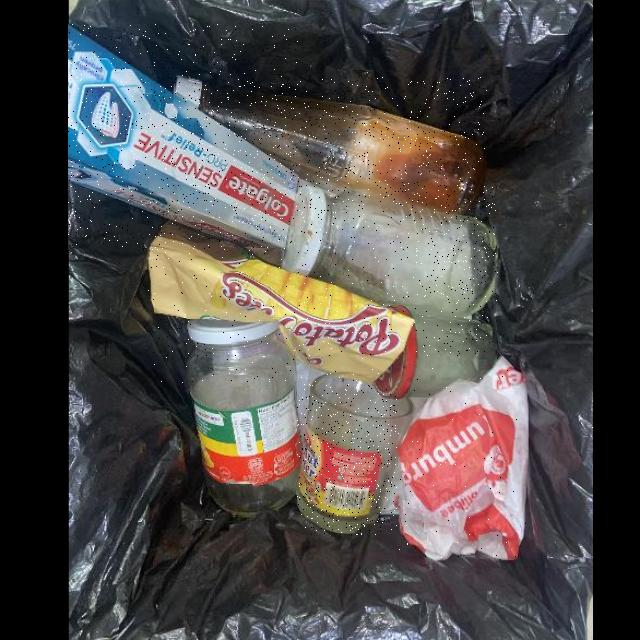glass: (175, 78, 487, 216), (285, 184, 498, 313), (187, 317, 303, 516), (298, 376, 413, 535), (374, 307, 496, 399)
paper: (69, 25, 298, 250), (398, 357, 529, 562)
wrapper: (148, 223, 415, 384)
